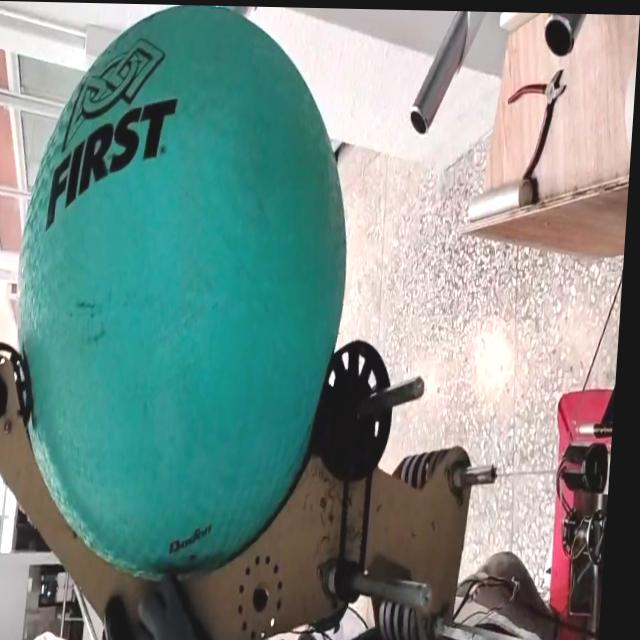ALGAE: (0, 4, 362, 588)
